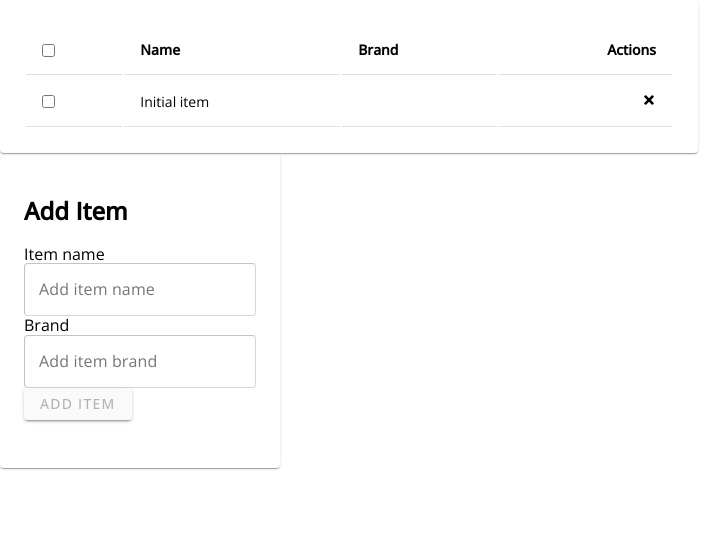
<AddItem /> › On submit › should add the item to list of all items
Type "New item name" into the field labelled "Item name". click: (140, 290)
box: [24, 263, 256, 316]
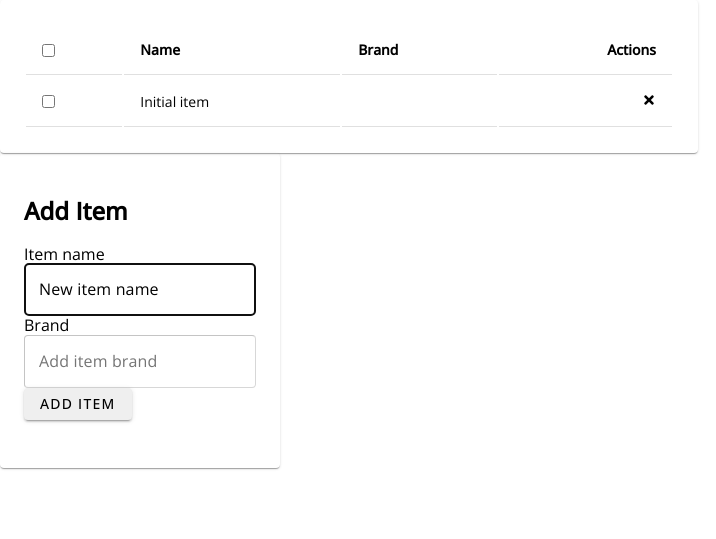
Type "New item brand" into the field labelled "Brand". click: (140, 362)
box: [24, 335, 256, 388]
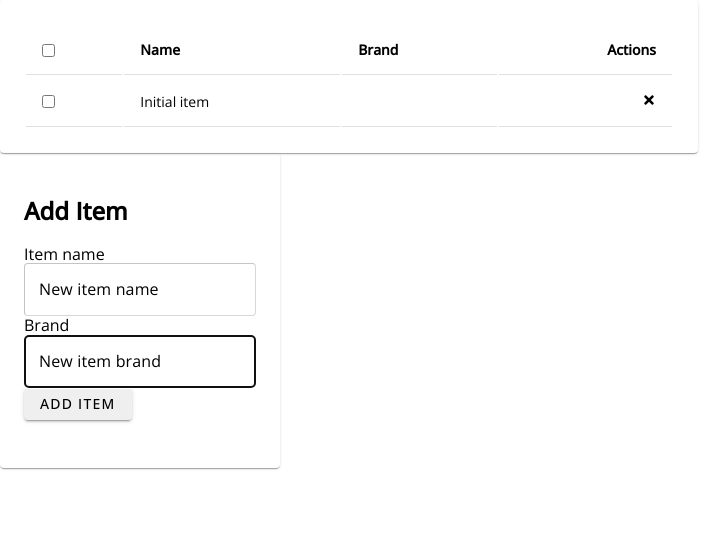
Click the button "Add Item". click: (78, 404)
box: [24, 388, 132, 420]
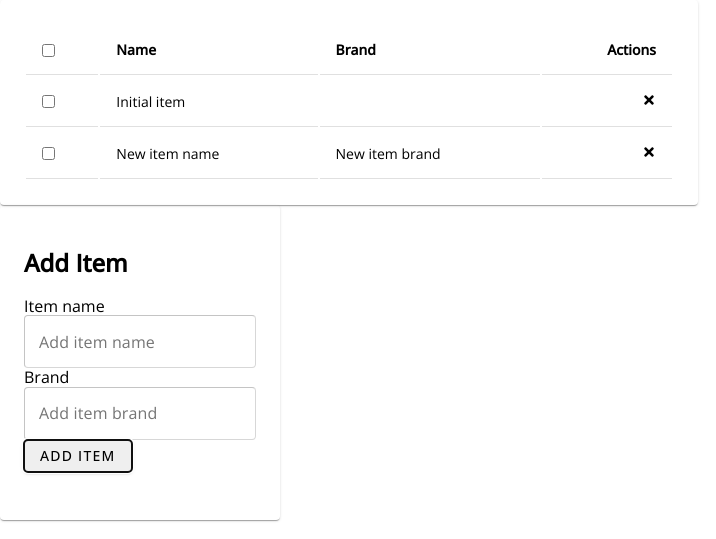
Result: the number of rows is 3 at [26, 26, 672, 75]; [26, 77, 672, 127]; [26, 129, 672, 179]
Result: the text "New item name" is shown at [100, 129, 318, 179]
Result: the text "New item brand" is shown at [320, 129, 540, 179]
